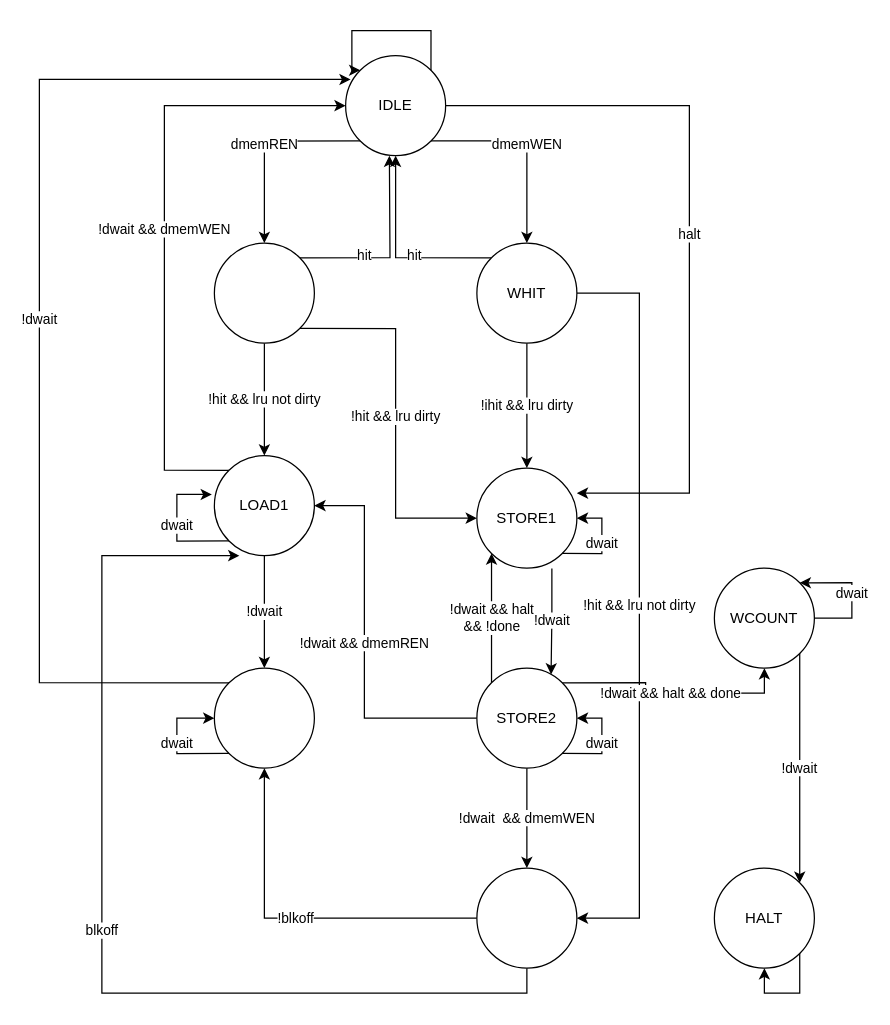
Image size: 890x1025. Some labels were removed from this diagram. Here are the shapes that lost their labels. From the top down, the centre of each, then its label:
the point at 263,292: RHIT
the point at 263,717: LOAD2
the point at 526,917: WCACHE
